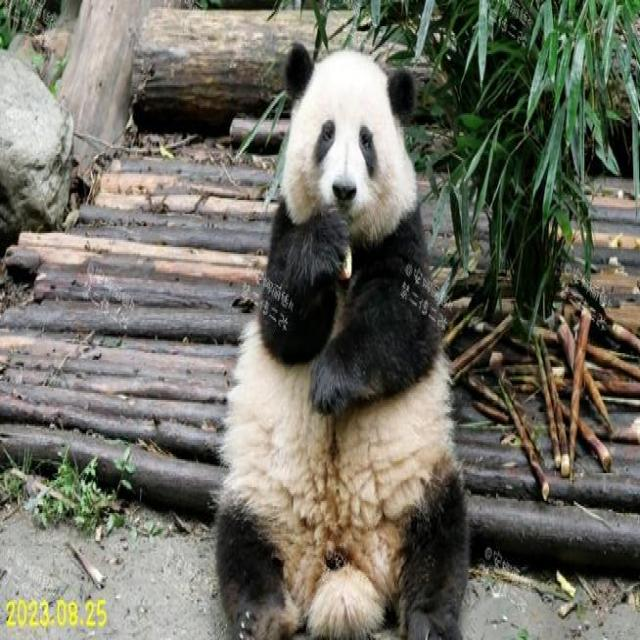panda: (217, 44, 477, 626)
